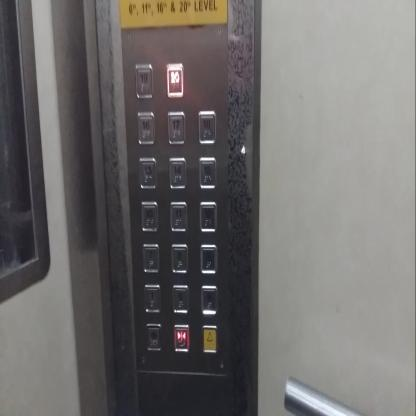1: (142, 281, 161, 315)
10: (140, 198, 158, 234)
11: (169, 199, 188, 233)
12: (199, 199, 218, 233)
13: (138, 154, 157, 190)
14: (168, 154, 187, 190)
15: (198, 154, 217, 192)
16: (136, 108, 156, 148)
17: (167, 109, 186, 146)
18: (197, 108, 217, 145)
19: (134, 61, 154, 100)
20: (165, 60, 185, 99)
7: (142, 240, 160, 274)
8: (170, 241, 189, 275)
alarm: (201, 322, 218, 356)
blur: (199, 242, 218, 275), (171, 282, 190, 315), (200, 283, 218, 316), (145, 321, 163, 353)
close: (173, 322, 190, 354)
